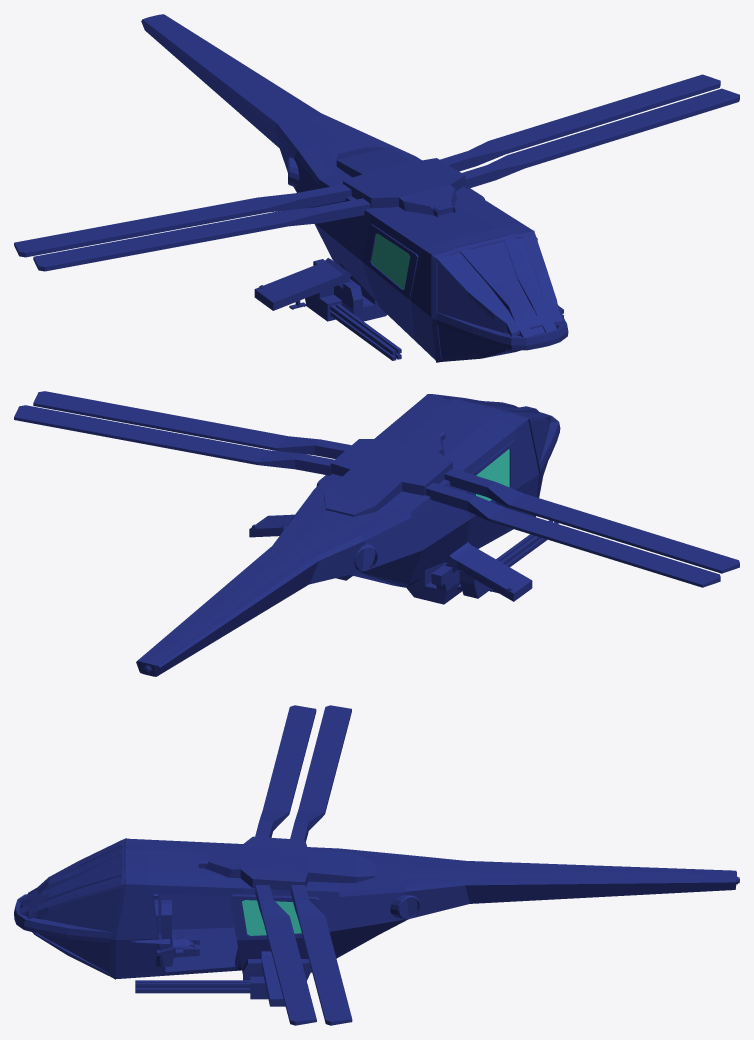
The model's file is Dragonfly.obj.
3 renders of one model, top to bottom at view 1: azimuth 30°, elevation 25°; view 2: azimuth 150°, elevation 25°; view 3: azimuth 270°, elevation 25°, orthographic. The views are drawn at different scales.
Parts seen in each view (by area): view 1: CubeFBXASC046041, cockpitframe, CubeFBXASC046058, Glass_cockpit, backbladeFBXASC046001, forwardbladeFBXASC046001, forwardblade, backblade, CubeFBXASC046016, door_right, Glass_Door_R, minigunFBXASC046001 barrelFBXASC046001 (+1 smaller); view 2: CubeFBXASC046041, CubeFBXASC046058, backbladeFBXASC046001, forwardbladeFBXASC046001, backblade, forwardblade, CubeFBXASC046016, cockpitframe, door_right, Glass_cockpit, Glass_Door_R, minigunFBXASC046001 barrelFBXASC046001 (+1 smaller); view 3: CubeFBXASC046041, CubeFBXASC046058, cockpitframe, Glass_cockpit, backblade, forwardblade, backbladeFBXASC046001, forwardbladeFBXASC046001, door_right, door_left, minigun barrel, CubeFBXASC046016 (+2 smaller).
Part boxes in pixels (box(x1,y1,x2,y2)): CubeFBXASC046041: box(141, 14, 532, 359); cockpitframe: box(431, 230, 568, 362); CubeFBXASC046058: box(336, 147, 465, 217); Glass_cockpit: box(433, 230, 547, 359); backbladeFBXASC046001: box(14, 184, 351, 257); forwardbladeFBXASC046001: box(33, 198, 372, 271); forwardblade: box(462, 88, 739, 188); backblade: box(440, 74, 720, 171); CubeFBXASC046016: box(254, 237, 537, 321); door_right: box(363, 224, 418, 335); Glass_Door_R: box(371, 233, 410, 289); minigunFBXASC046001 barrelFBXASC046001: box(330, 304, 401, 360); CubeFBXASC046041: box(136, 394, 539, 676); CubeFBXASC046058: box(324, 428, 452, 516); backbladeFBXASC046001: box(425, 482, 720, 587); forwardbladeFBXASC046001: box(444, 468, 739, 573); backblade: box(14, 405, 334, 475); forwardblade: box(33, 391, 351, 458); CubeFBXASC046016: box(249, 514, 532, 604); cockpitframe: box(429, 394, 560, 516); door_right: box(466, 439, 517, 547); Glass_cockpit: box(427, 394, 549, 516); Glass_Door_R: box(476, 449, 509, 500); minigunFBXASC046001 barrelFBXASC046001: box(496, 520, 558, 567); CubeFBXASC046041: box(116, 838, 736, 978); CubeFBXASC046058: box(198, 836, 375, 890); cockpitframe: box(14, 838, 126, 979); Glass_cockpit: box(21, 838, 126, 978); backblade: box(290, 885, 352, 1025); forwardblade: box(255, 885, 316, 1025); backbladeFBXASC046001: box(290, 705, 351, 841); forwardbladeFBXASC046001: box(255, 705, 316, 837); door_right: box(159, 894, 234, 929); door_left: box(229, 894, 319, 973); minigun barrel: box(135, 980, 250, 993); CubeFBXASC046016: box(243, 951, 311, 1006).
Size of the model in its own units: 616 by 97.9 by 597.
